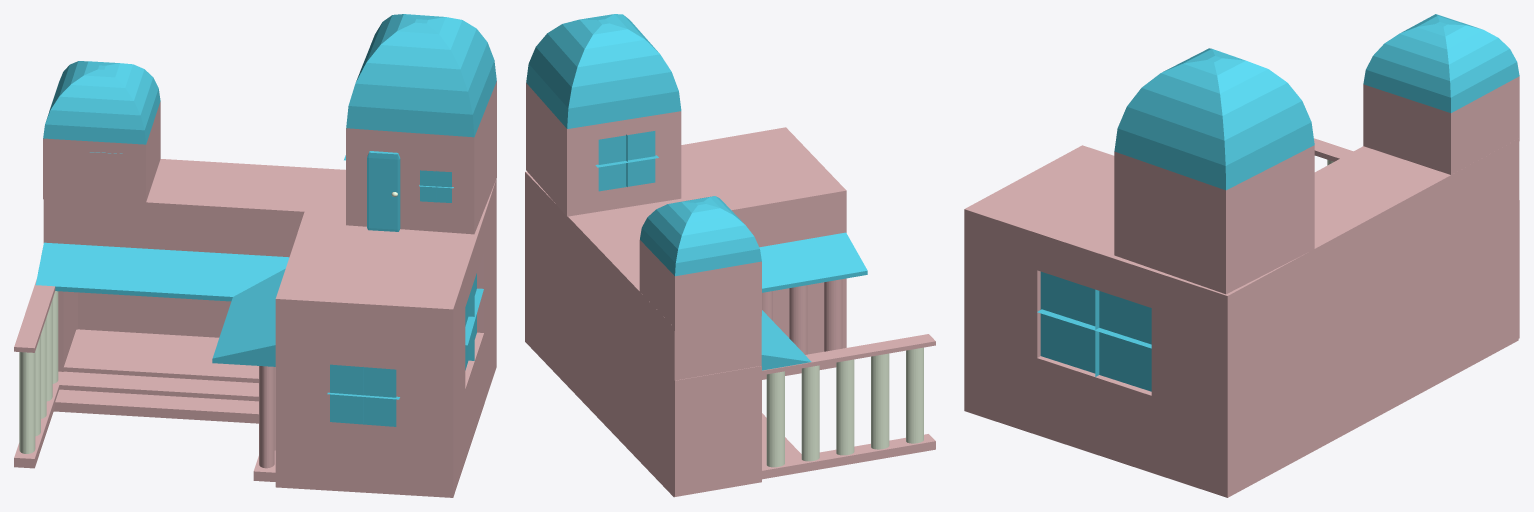
File: Extracteur diamand.fbx
3 renders of one model, left to right at view 1: azimuth 30°, elevation 25°; view 2: azimuth 150°, elevation 25°; view 3: azimuth 270°, elevation 25°, orthographic. The views are drawn at different scales.
Visible parts, largest first — view 1: Coupole; view 2: Coupole; view 3: Coupole.
Part boxes in pixels (bbox=[...]): Coupole: bbox=[14, 14, 496, 497]; Coupole: bbox=[525, 14, 935, 497]; Coupole: bbox=[964, 14, 1519, 497].
Bounding box in the file's own units: 521 × 393 × 499.
